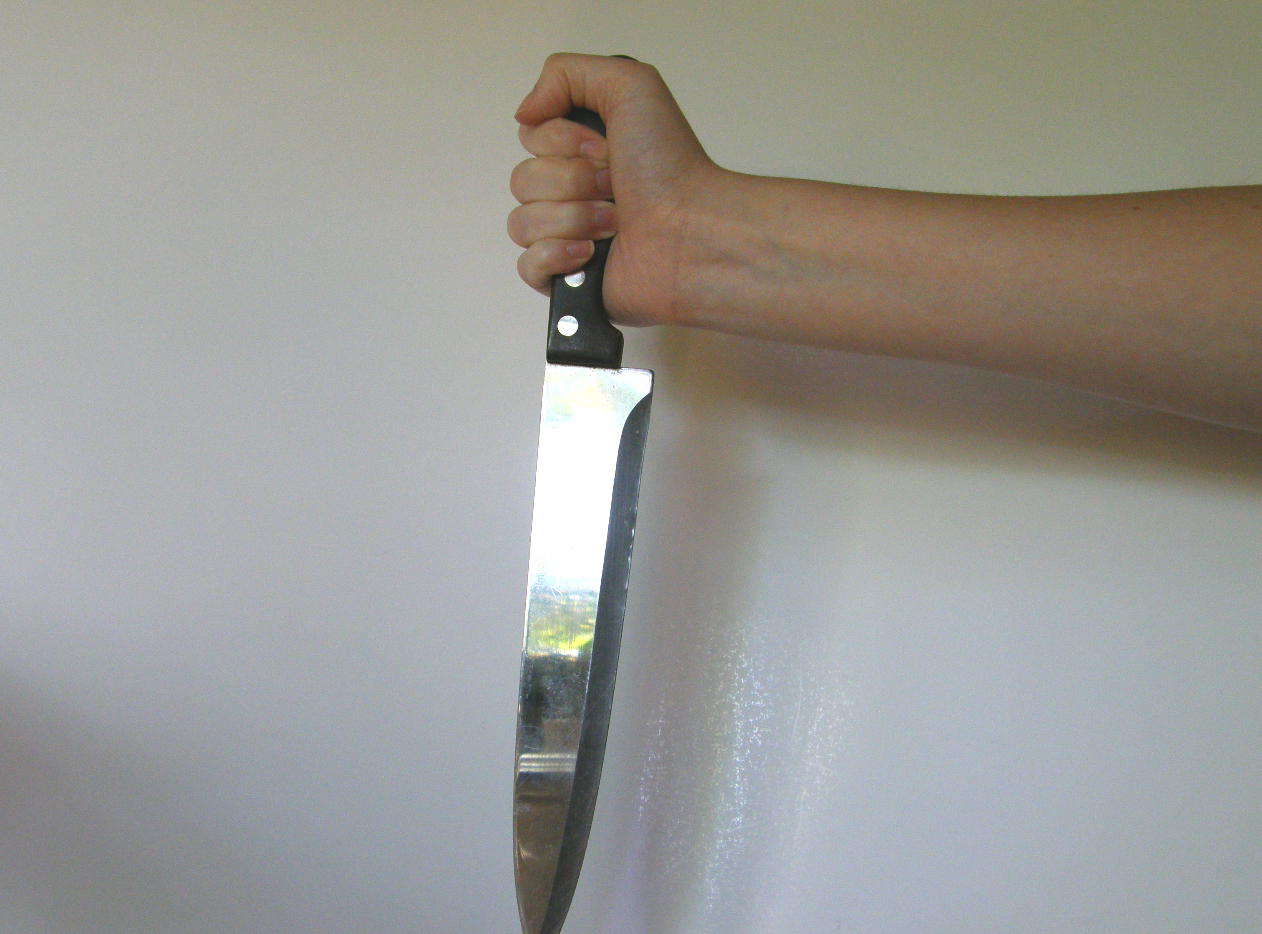knife: (494, 132, 663, 934)
